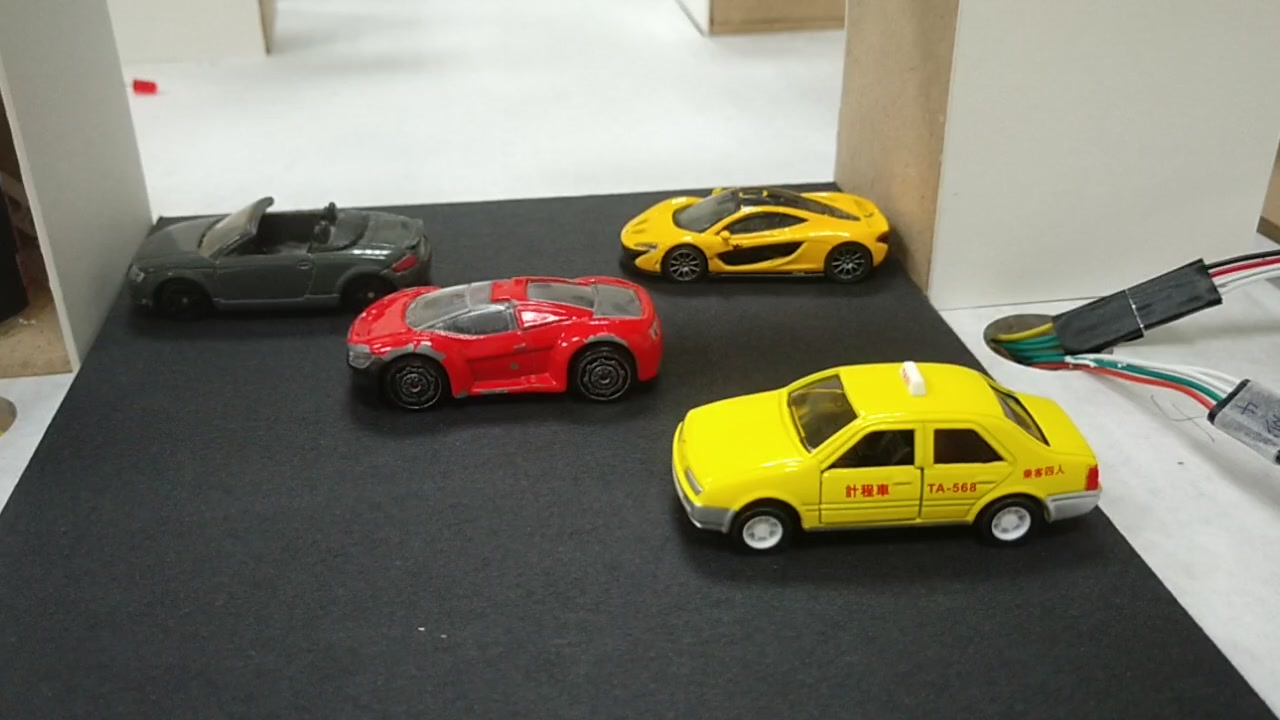car: (670, 361, 1098, 547), (356, 277, 663, 399), (135, 211, 436, 311), (623, 187, 890, 294)
